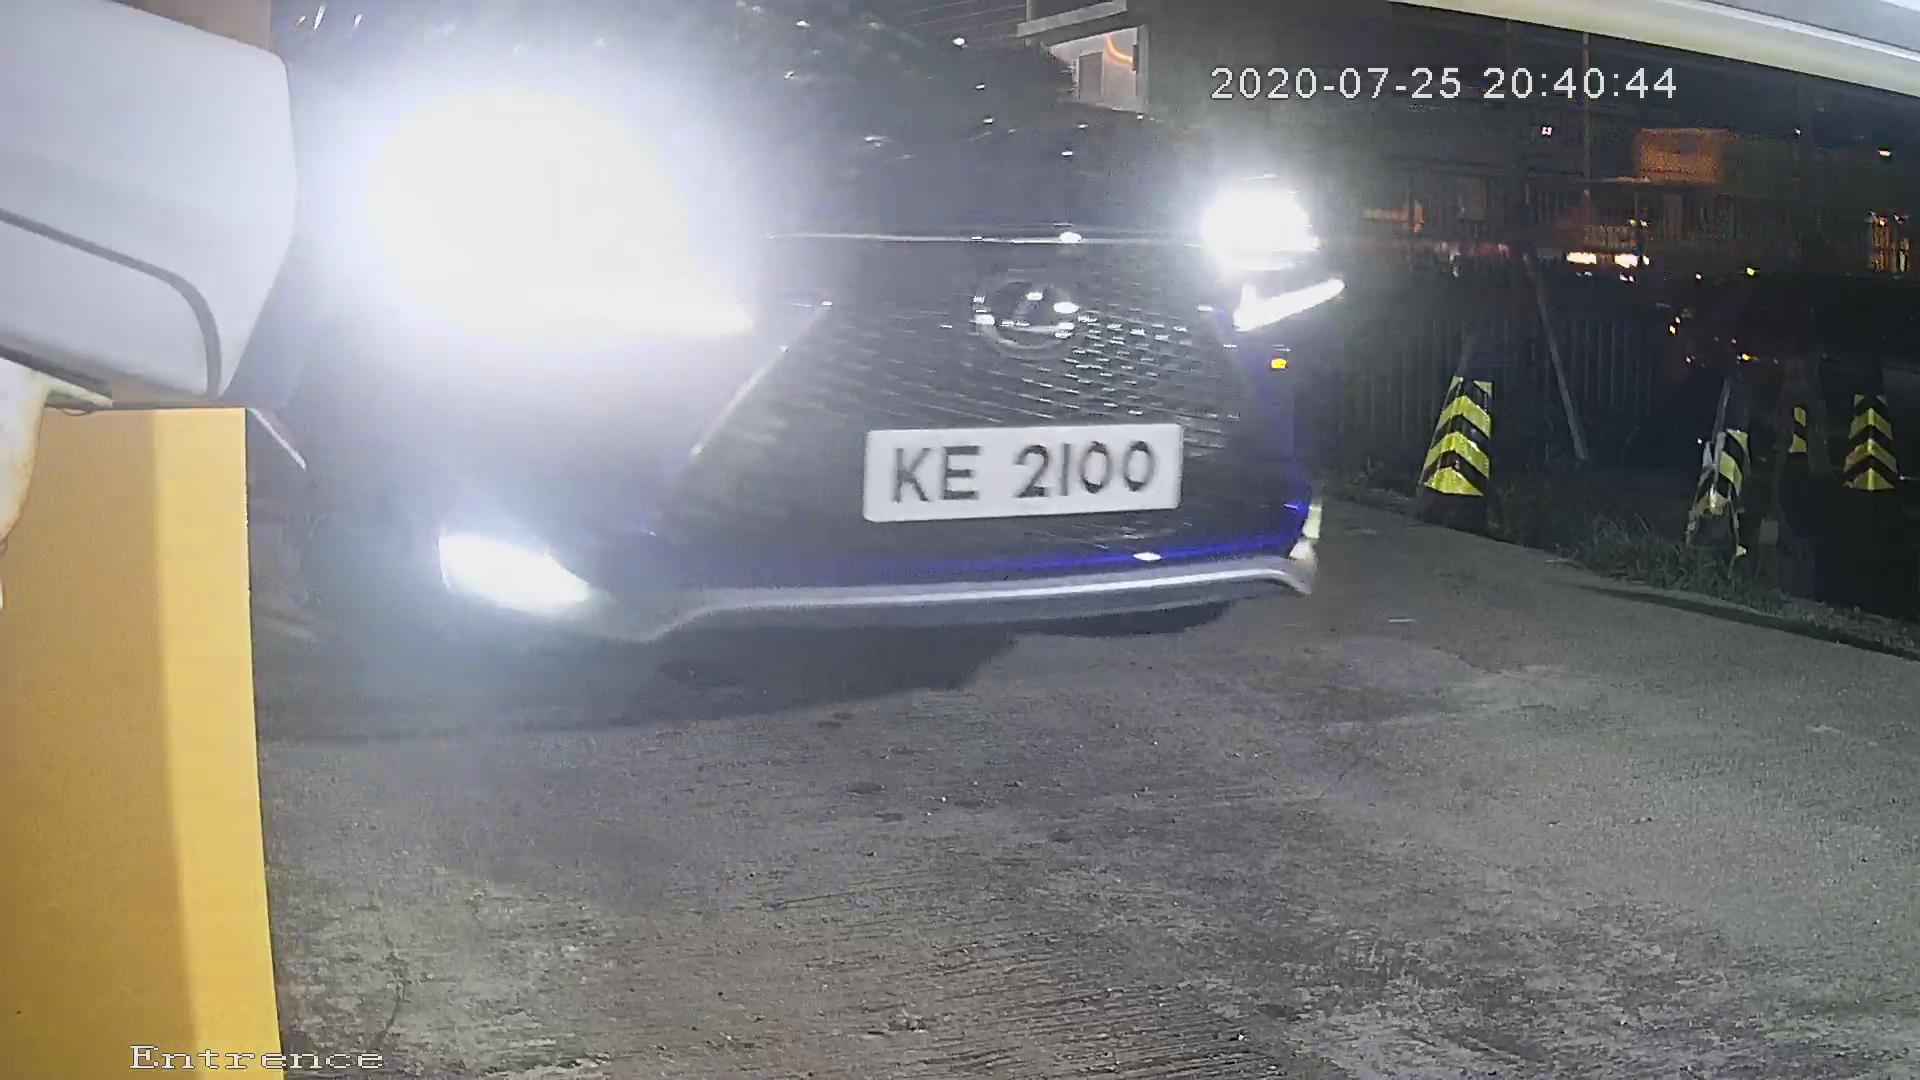Car: (35, 1, 1526, 777)
License Plate: (841, 406, 1209, 531)
